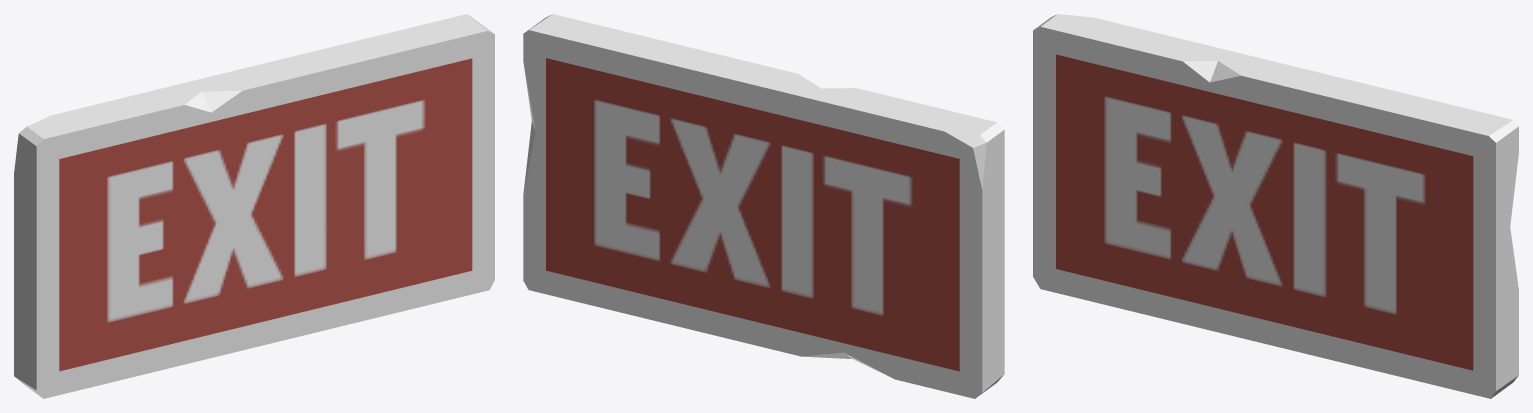
The model's file is SM_Sign_Exit_02.fbx.
3 views of the same model, side by side, from view 1: azimuth 30°, elevation 25°; view 2: azimuth 150°, elevation 25°; view 3: azimuth 330°, elevation 25° (orthographic).
Visible parts, largest first — view 1: SM_Sign_Exit_02; view 2: SM_Sign_Exit_02; view 3: SM_Sign_Exit_02.
Part boxes in pixels (x1,y1,x2,y2): SM_Sign_Exit_02: [14, 14, 494, 398]; SM_Sign_Exit_02: [523, 14, 1004, 398]; SM_Sign_Exit_02: [1033, 14, 1518, 398].
Bounding box in the file's own units: 170 × 91.8 × 14.42.
Materials: 1 (1 with a texture image).
